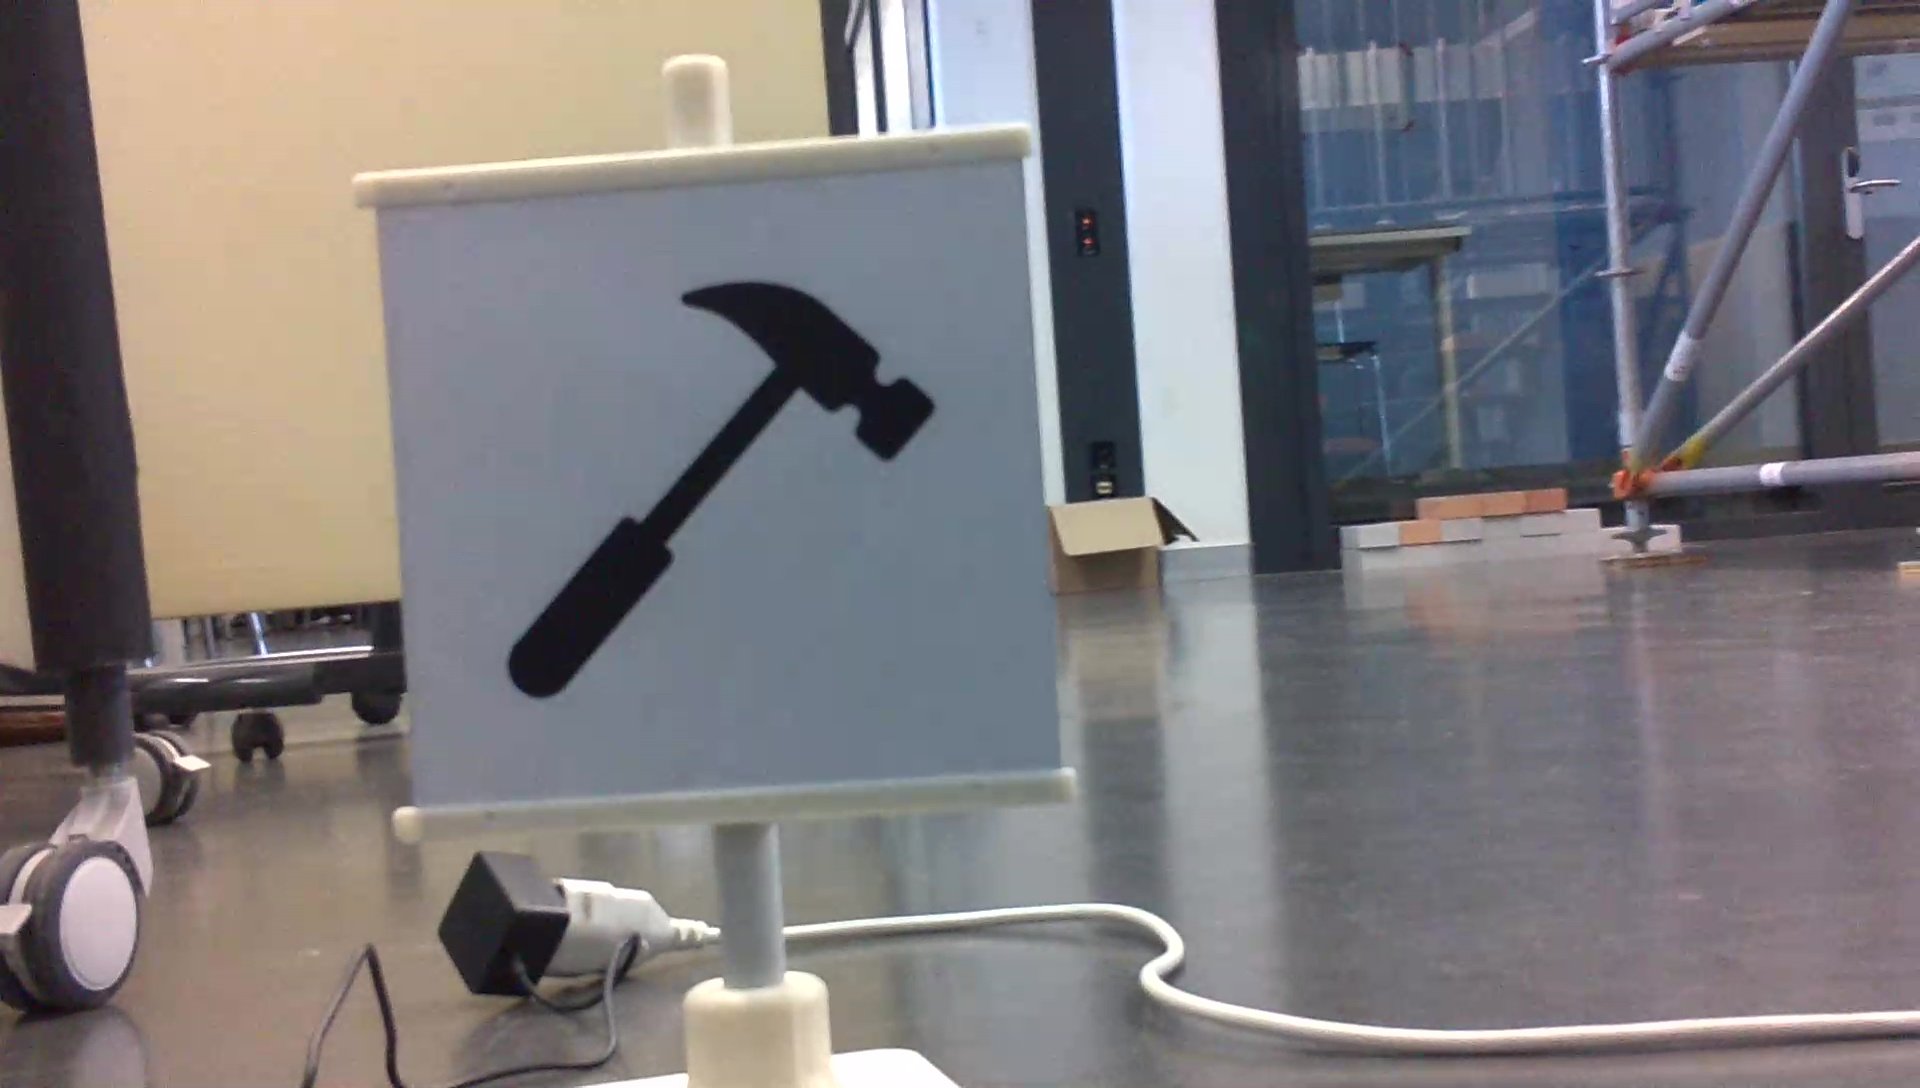hammer: (497, 274, 942, 706)
